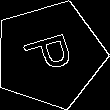P_E: (19, 30, 80, 80)
